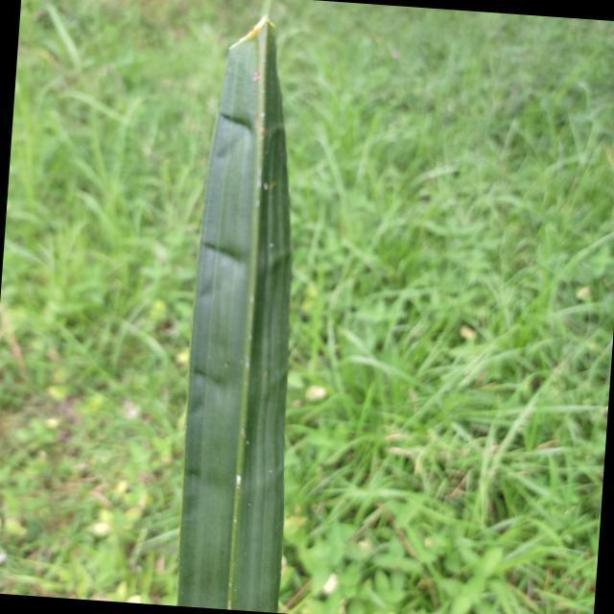Boron: (182, 9, 295, 614)
